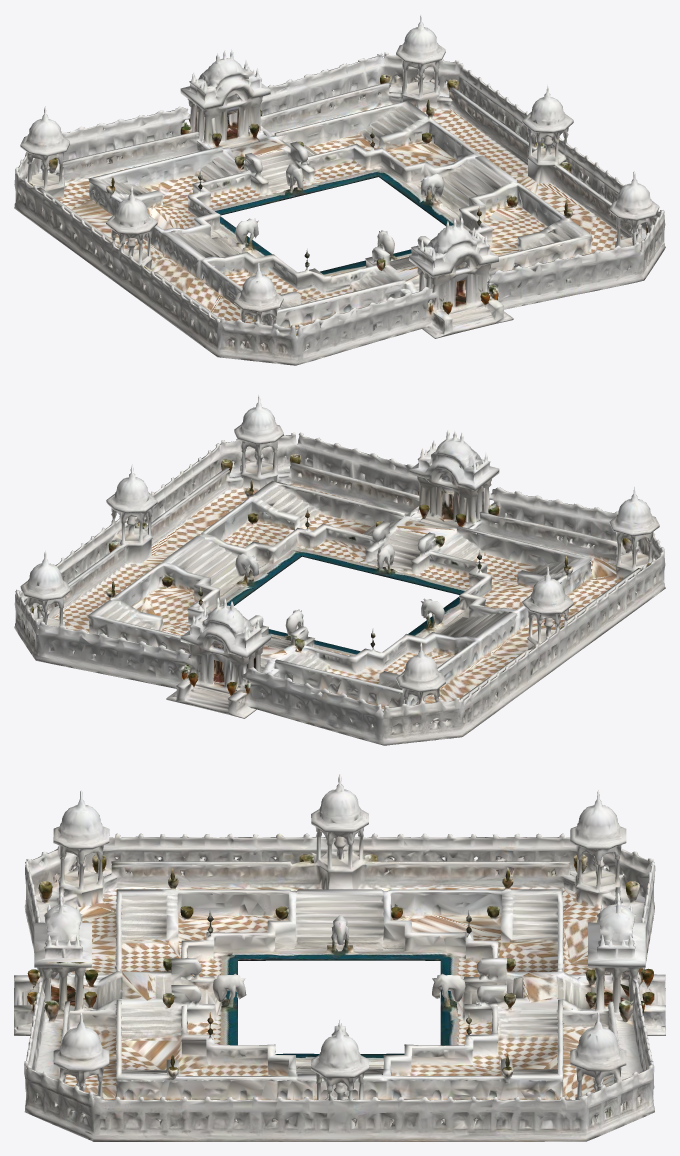
Rendered from Ivory_Palace_Courtyar.glb.
3 views of the same model, one above another, from view 1: azimuth 30°, elevation 25°; view 2: azimuth 150°, elevation 25°; view 3: azimuth 270°, elevation 25° (orthographic). The views are drawn at different scales.
Parts seen in each view (by area): view 1: Ivory_Palace_Courtyar; view 2: Ivory_Palace_Courtyar; view 3: Ivory_Palace_Courtyar.
Part boxes in pixels (x1,y1,x2,y2): Ivory_Palace_Courtyar: [14, 15, 665, 365]; Ivory_Palace_Courtyar: [14, 395, 665, 745]; Ivory_Palace_Courtyar: [14, 774, 665, 1141].
Size of the model in its own units: 1.86 by 0.3773 by 1.9.
Materials: 1 (1 with a texture image).
